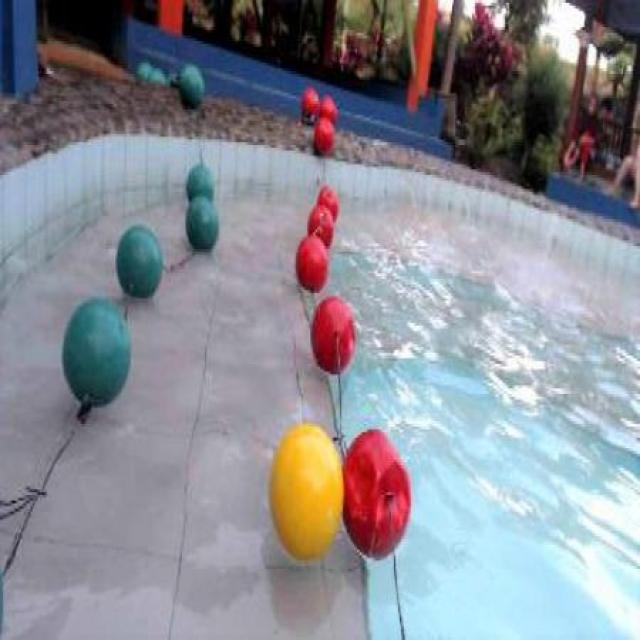buoy: (269, 421, 344, 557), (342, 427, 412, 558), (60, 298, 131, 407), (309, 295, 355, 372), (115, 226, 162, 300), (294, 232, 328, 293), (184, 194, 218, 250), (186, 164, 214, 208), (307, 203, 333, 250), (178, 62, 203, 106), (316, 183, 337, 222), (313, 116, 333, 151), (300, 88, 320, 120), (316, 94, 336, 124)
